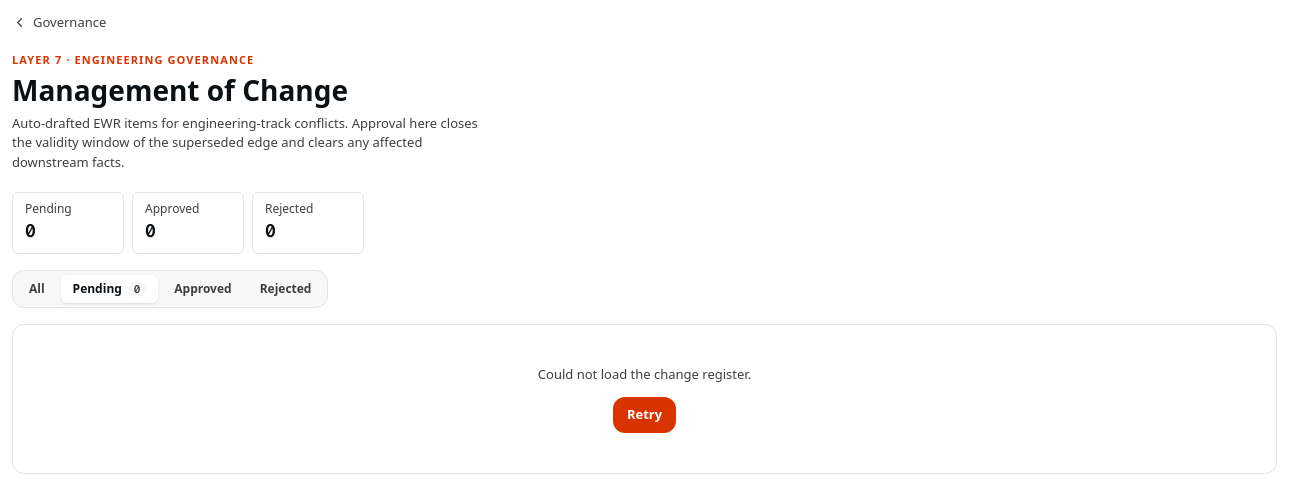
Test: MocListPage › shows an error surface with retry when the fetch rejects
The image size is (1292, 491).
Click the button "Retry". click: (644, 414)
box: [613,396,676,432]
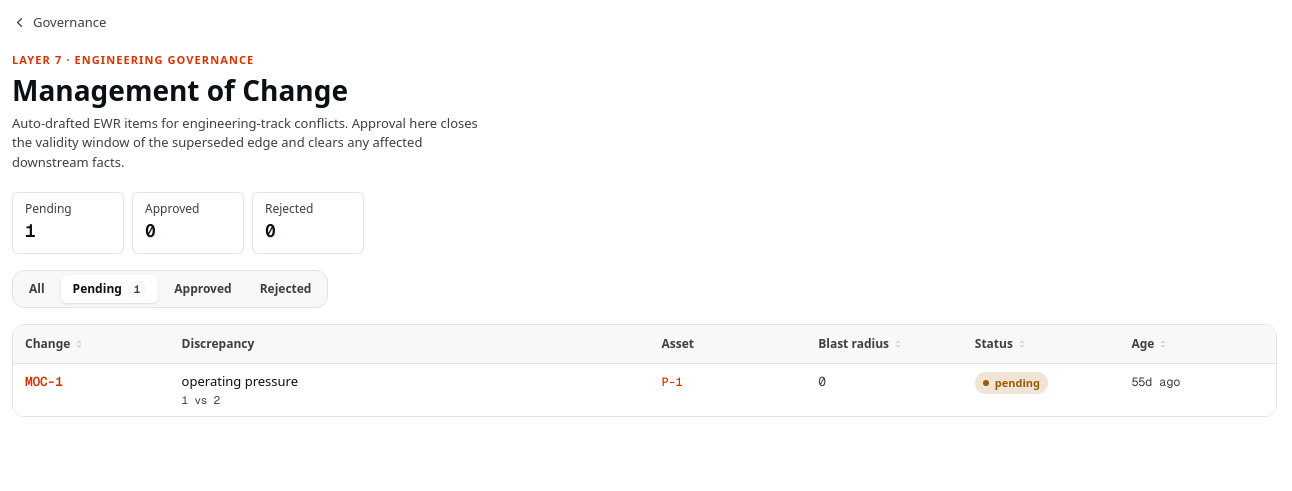
Expected: the text "MOC-1" is shown, [25,373,63,390]
